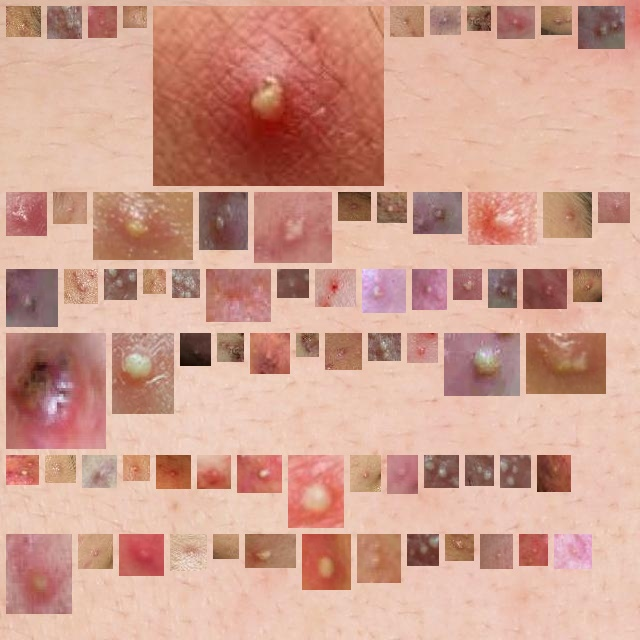pustule: (161, 14, 376, 178), (14, 341, 98, 441), (101, 200, 185, 252), (262, 200, 324, 255), (14, 542, 64, 606), (120, 341, 166, 406), (534, 341, 598, 386), (452, 341, 512, 388), (296, 463, 336, 520), (476, 200, 529, 237), (214, 277, 263, 314), (14, 277, 50, 319), (207, 200, 240, 242), (310, 542, 343, 582), (551, 200, 584, 230), (365, 542, 393, 575), (421, 200, 454, 226), (586, 14, 617, 41), (370, 277, 398, 305), (127, 542, 156, 568), (14, 200, 39, 228), (531, 277, 559, 301), (245, 463, 274, 485), (253, 542, 288, 560), (258, 341, 282, 366), (323, 277, 348, 299), (420, 277, 439, 302), (333, 341, 354, 362), (178, 542, 199, 563), (562, 542, 584, 561), (545, 463, 563, 484), (505, 14, 527, 31), (86, 542, 105, 561), (395, 463, 410, 486), (72, 277, 90, 296), (164, 463, 183, 481), (205, 463, 223, 481), (55, 14, 74, 31), (90, 463, 109, 480), (432, 463, 451, 480), (488, 542, 505, 561), (358, 463, 373, 484), (496, 277, 509, 300), (61, 200, 79, 216), (14, 14, 33, 29), (398, 14, 416, 29), (415, 542, 431, 558), (346, 198, 363, 213), (112, 277, 129, 292), (188, 341, 203, 358), (508, 463, 523, 480), (606, 200, 622, 215), (14, 463, 31, 477), (581, 277, 594, 294), (385, 200, 399, 215), (415, 341, 430, 355), (96, 14, 109, 30), (285, 277, 301, 290), (527, 542, 540, 558), (376, 341, 393, 353), (438, 14, 453, 27), (549, 14, 564, 27), (461, 277, 474, 292), (473, 463, 486, 478), (53, 463, 68, 475), (180, 277, 192, 290), (225, 341, 236, 354), (453, 542, 466, 553), (131, 463, 142, 473), (221, 542, 231, 551), (475, 14, 483, 23), (151, 277, 158, 286), (304, 341, 311, 349), (131, 14, 139, 20)
